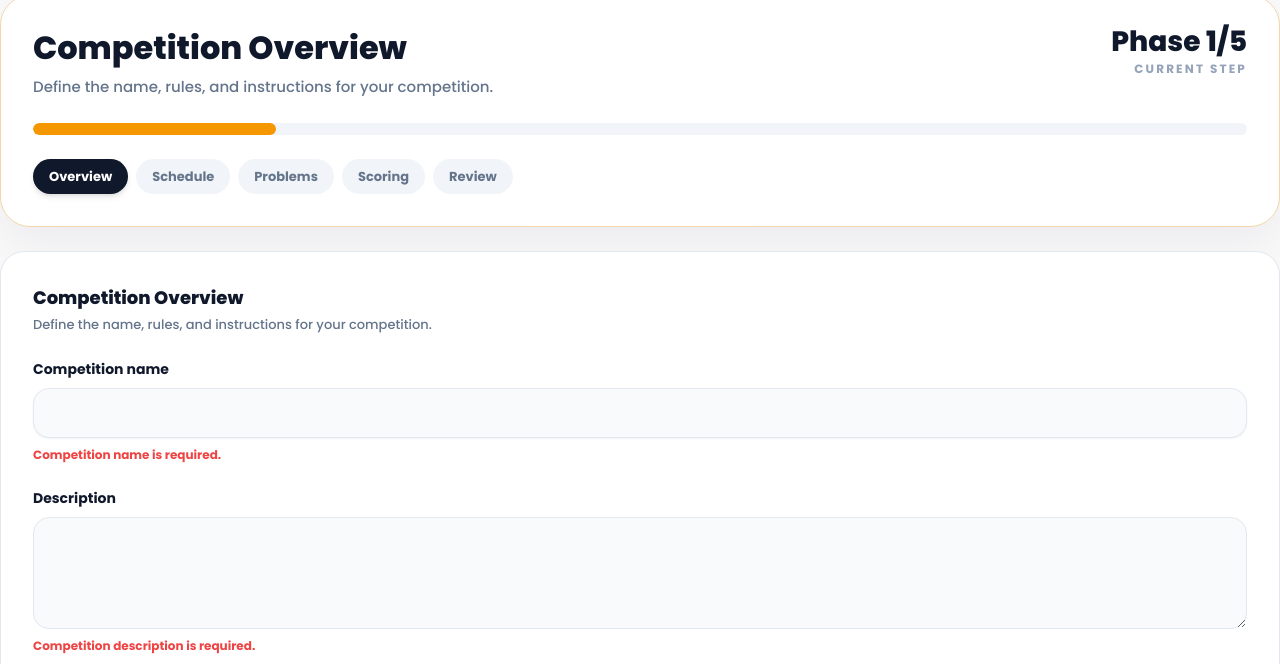
Test case: CompetitionWizard selection and custom scoring › shows one expanded problem bank at a time
The width and height of the screenshot is (1280, 664).
Click the button "Problems".
click(286, 176)  # box [238,158,334,194]
(page scrolled)
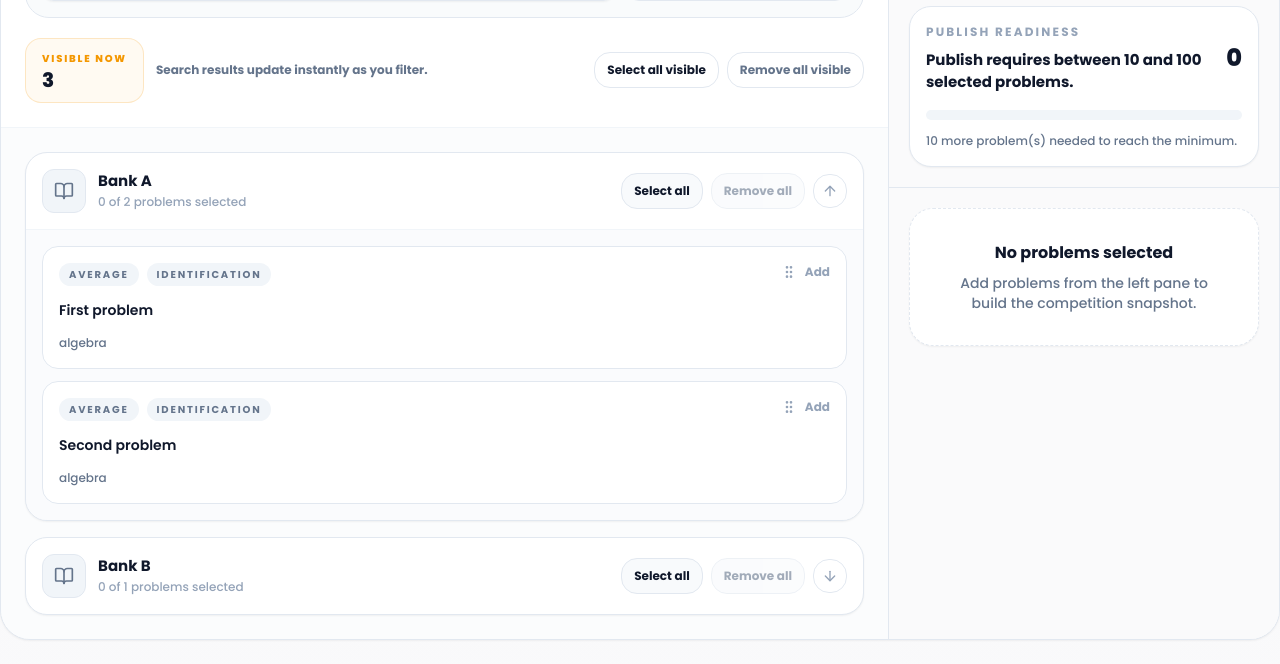
Expected: the text "Third problem" is not shown
Now the text "First problem" is shown, box [59,300,153,320]
Click the button "Bank B 0 of 1 problems selected".
click(64, 576)  # box [42,554,605,598]
(page scrolled)
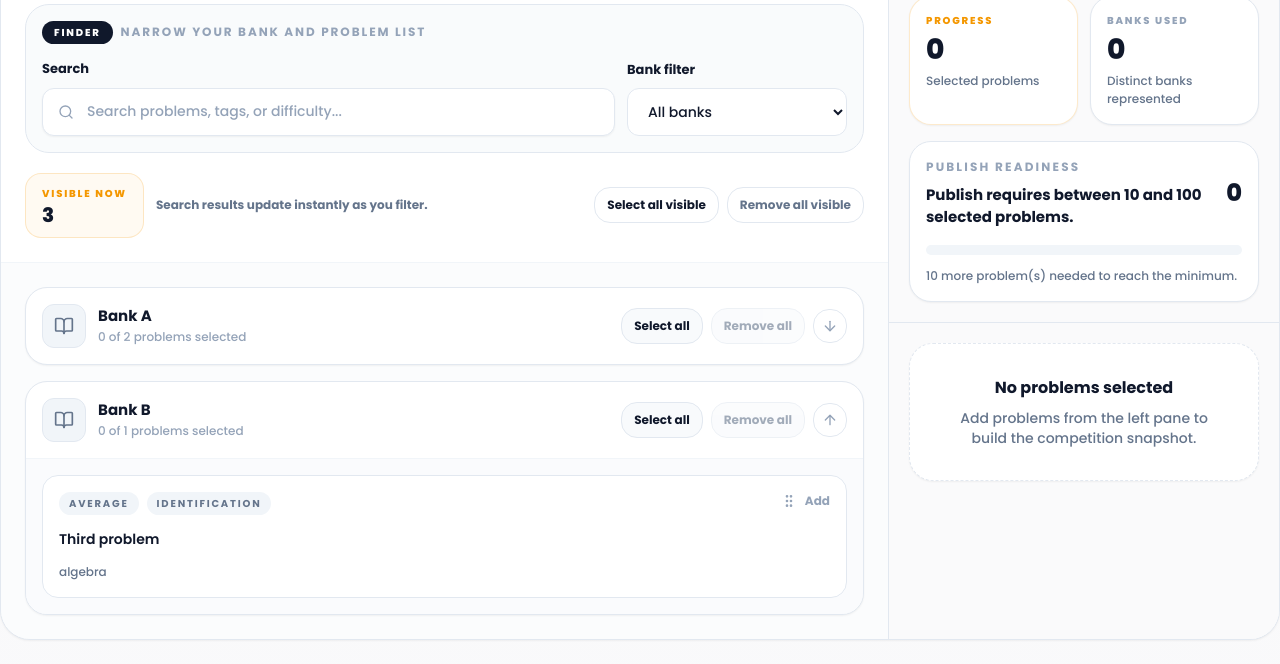
Now the text "Third problem" is shown, box [59,528,160,548]
Now the button "First problem" is gone
